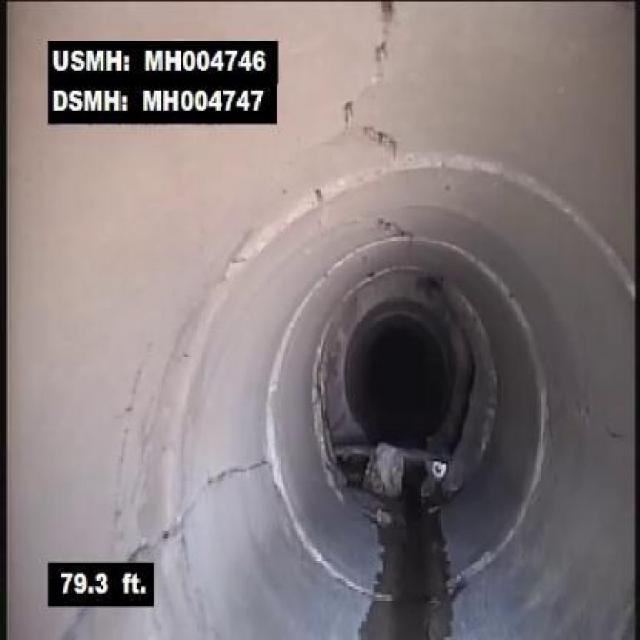Buckling: (338, 0, 409, 166)
Crack: (143, 458, 265, 554)
